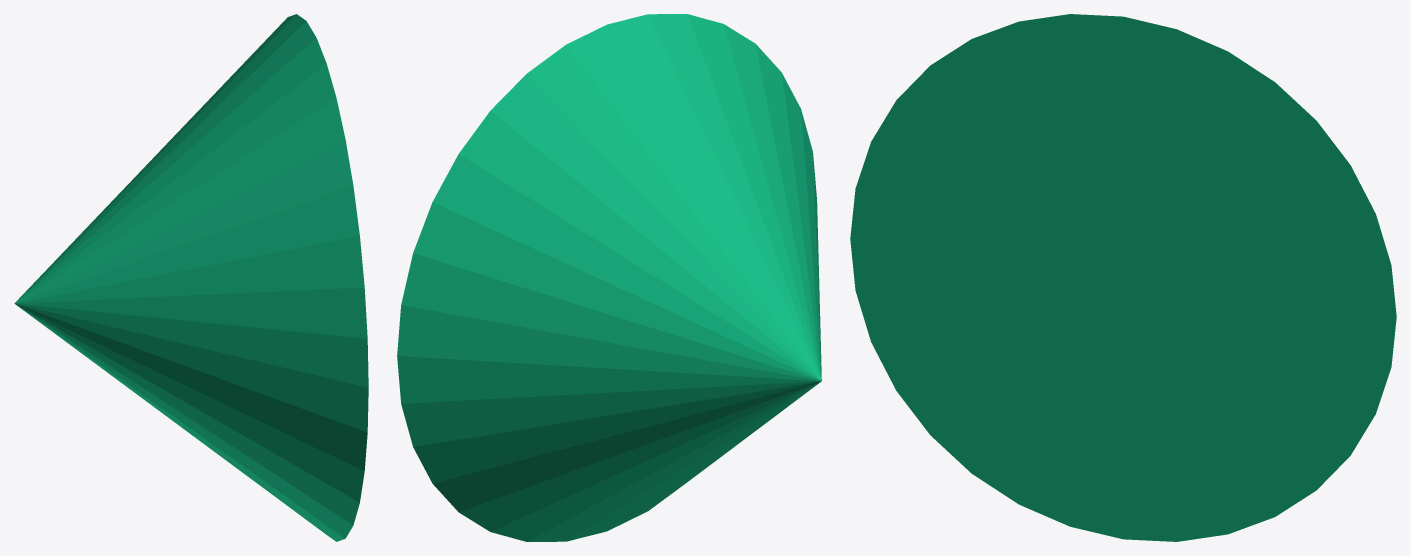
File: 13_solid angle large.glb
3 views of the same model, side by side, from view 1: azimuth 30°, elevation 25°; view 2: azimuth 150°, elevation 25°; view 3: azimuth 270°, elevation 25° (orthographic). The views are drawn at different scales.
Visible parts, largest first — view 1: Cone; view 2: Cone; view 3: Cone.
Part boxes in pixels (bbox=[...]): Cone: bbox=[14, 14, 368, 541]; Cone: bbox=[397, 14, 821, 541]; Cone: bbox=[850, 14, 1396, 541].
Size of the model in its own units: 2.45 by 3.44 by 3.26.
